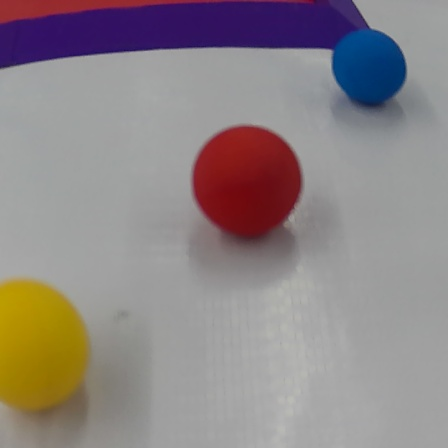blue: (332, 27, 410, 108)
red: (191, 113, 306, 242)
red_aim: (3, 0, 384, 85)
yellow: (2, 272, 93, 421)
